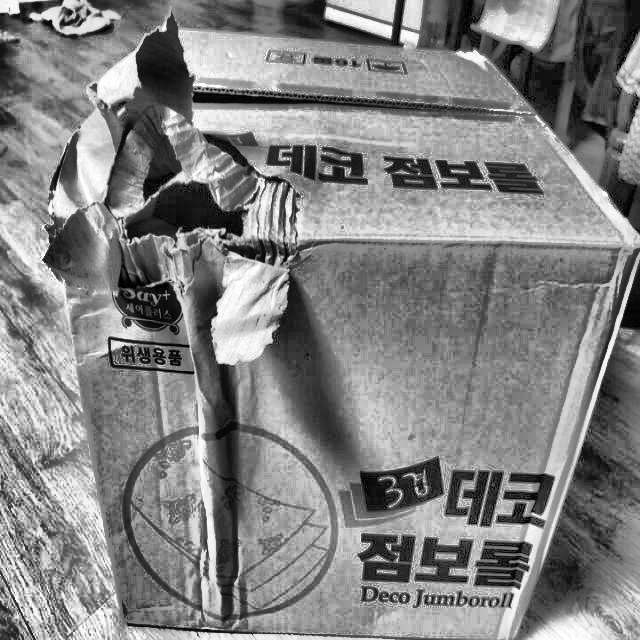box: (42, 9, 639, 639)
hole: (91, 92, 299, 286)
